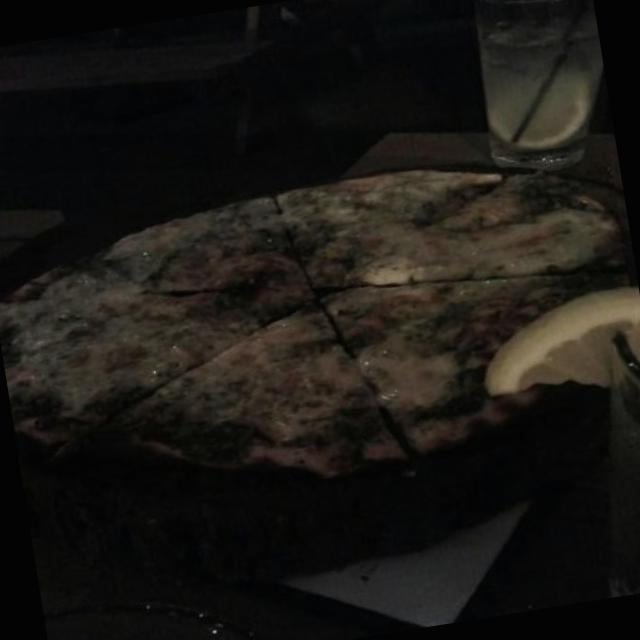pizza: (0, 173, 627, 477)
